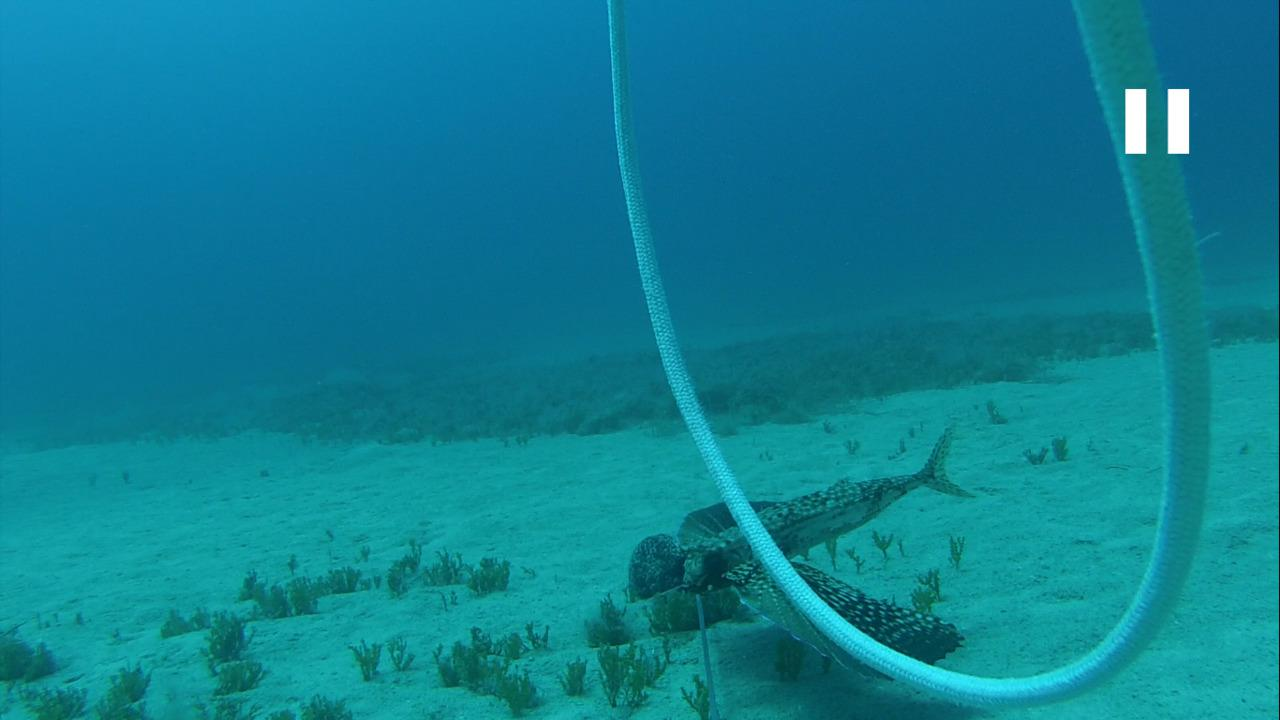dactylopterus: (664, 421, 965, 653)
